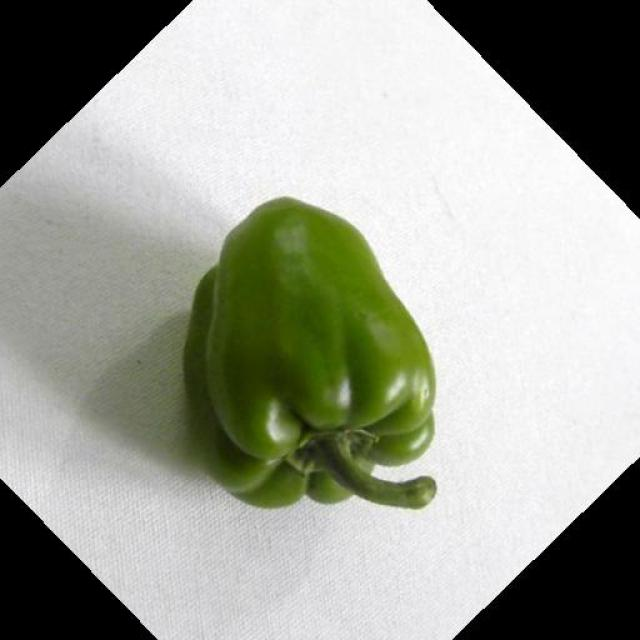Fresh_Capsicum: (181, 186, 450, 524)
